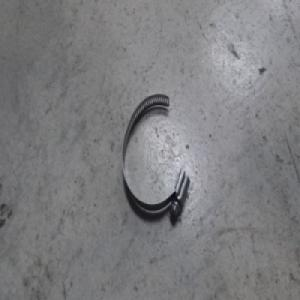AdjustableClamp: (121, 94, 190, 221)
